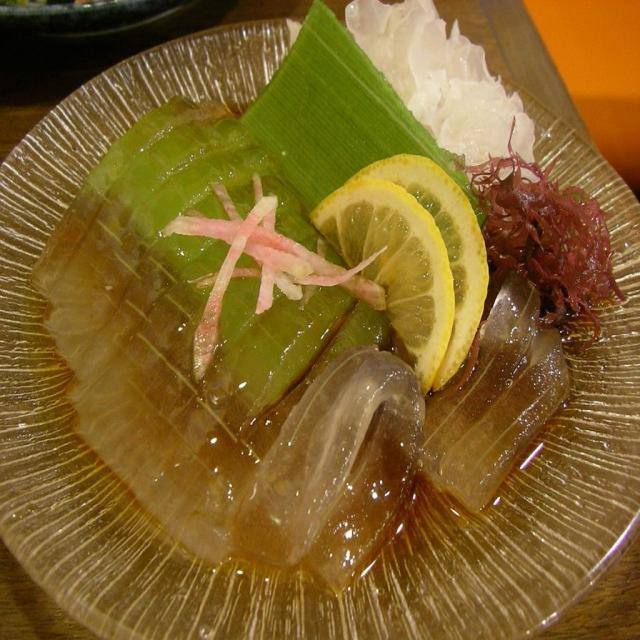Lemon: (306, 179, 450, 392), (361, 156, 486, 386)
